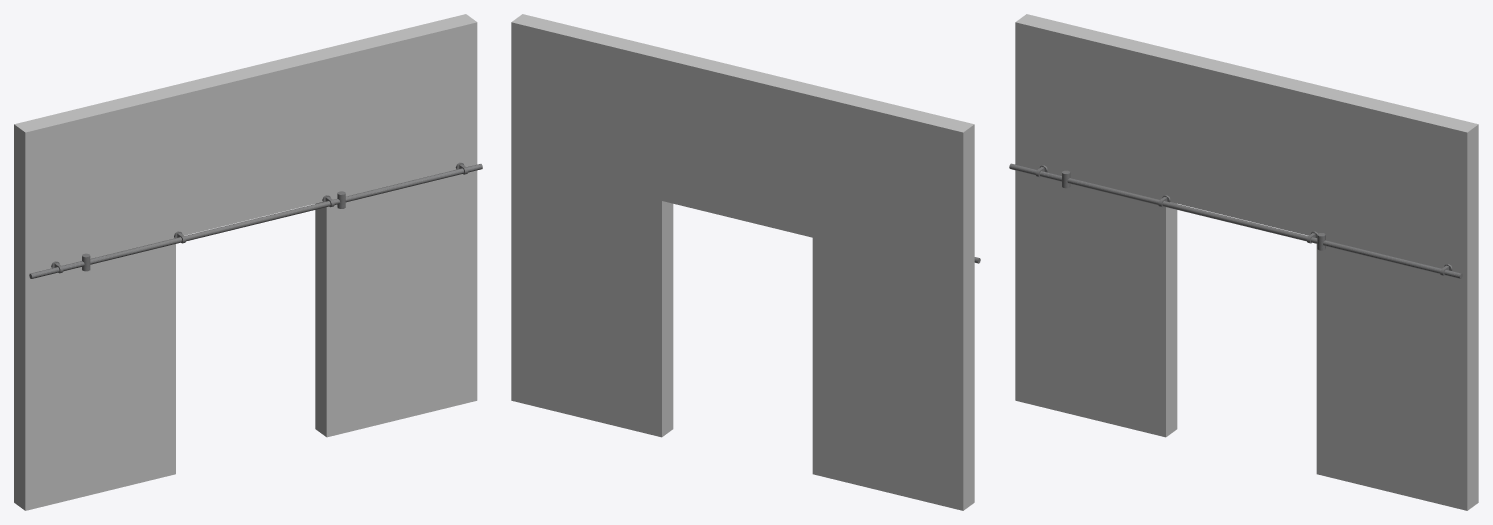
File: SM_Wall_Window_1.FBX
3 views of the same model, side by side, from view 1: azimuth 30°, elevation 25°; view 2: azimuth 150°, elevation 25°; view 3: azimuth 330°, elevation 25° (orthographic).
Parts seen in each view (by area): view 1: SM_Wall_Window_1; view 2: SM_Wall_Window_1; view 3: SM_Wall_Window_1.
Boxes of the visible parts, box(x1,y1,x2,y2) form: SM_Wall_Window_1: box(14, 14, 482, 510); SM_Wall_Window_1: box(511, 14, 980, 510); SM_Wall_Window_1: box(1009, 14, 1478, 510).
Size of the model in its own units: 5 by 4 by 0.356.
